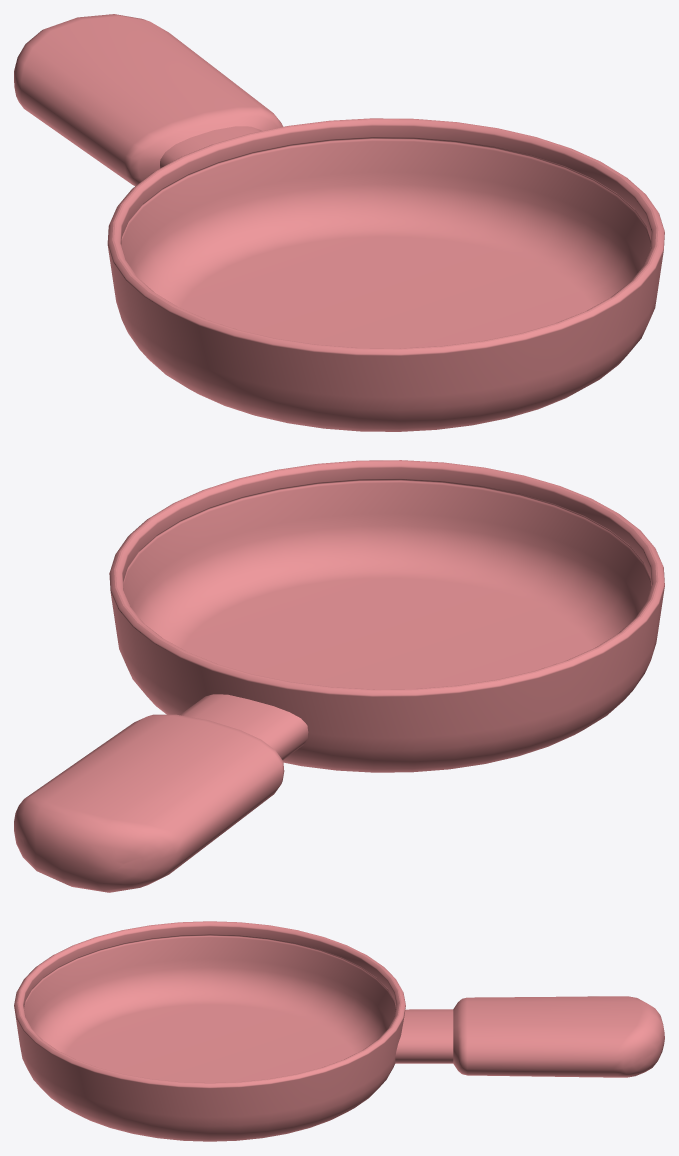
File: pan.fbx
3 views of the same model, one above another, from view 1: azimuth 30°, elevation 25°; view 2: azimuth 150°, elevation 25°; view 3: azimuth 270°, elevation 25° (orthographic). The views are drawn at different scales.
Visible parts, largest first — view 1: pCylinder23; view 2: pCylinder23; view 3: pCylinder23.
Part boxes in pixels (x1=…): pCylinder23: x1=14, y1=14, x2=664, y2=431; pCylinder23: x1=14, y1=460, x2=664, y2=892; pCylinder23: x1=14, y1=921, x2=664, y2=1141.
Size of the model in its own units: 4.2 by 0.8604 by 6.97.
